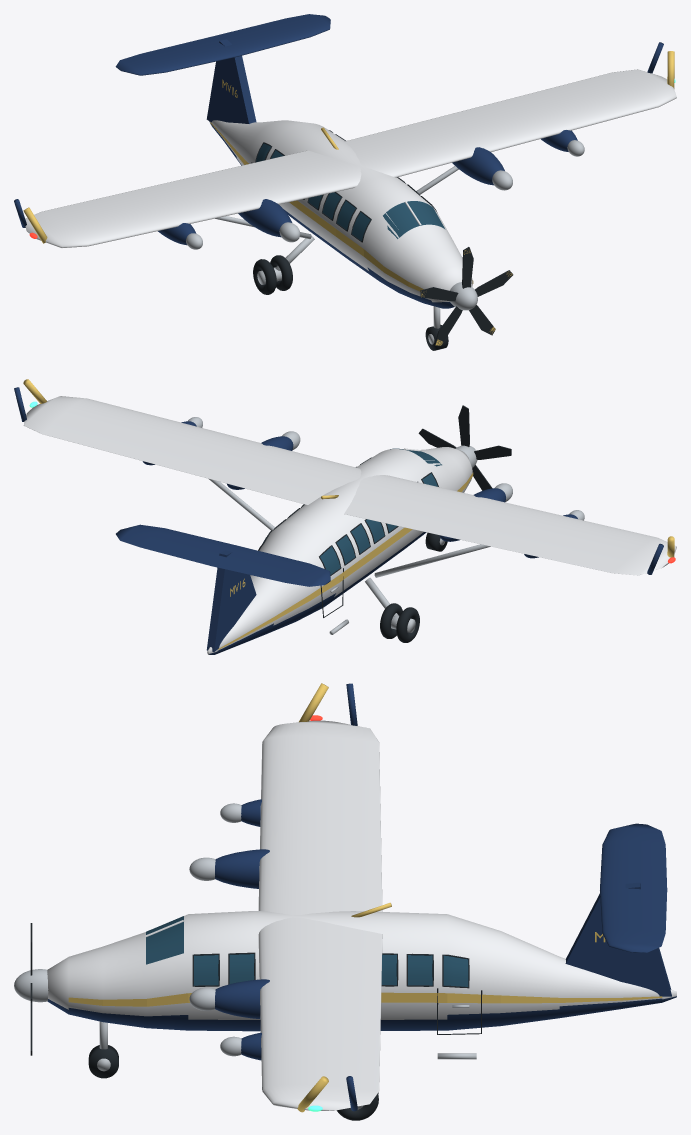
File: skywhale_mv16.glb
3 views of the same model, one above another, from view 1: azimuth 30°, elevation 25°; view 2: azimuth 150°, elevation 25°; view 3: azimuth 270°, elevation 25° (orthographic). The views are drawn at different scales.
Parts seen in each view (by area): view 1: Skywhale regional wing, Wide-body regional fuselage, High T-tail stabilizer, Tall airliner vertical fin, Airliner wrap-around windscreen, Imperial gold cheatline, Inboard engine pod, Inboard engine pod.001, Skywhale bogie tyre.001, Titanium nose spinner; view 2: Skywhale regional wing, Wide-body regional fuselage, High T-tail stabilizer, Tall airliner vertical fin, Imperial gold cheatline, Reinforced wing strut, Skywhale bogie tyre.001, Skywhale bogie tyre, Reinforced wing strut.001; view 3: Skywhale regional wing, Wide-body regional fuselage, High T-tail stabilizer, Tall airliner vertical fin, Imperial gold cheatline.001, Inboard engine pod.001, Inboard engine pod, Airliner wrap-around windscreen, Titanium nose spinner, Airliner oval window.008, Airliner oval window.014, Airliner oval window.015 (+2 smaller).
Part boxes in pixels (left/top/right/bottom): Skywhale regional wing: left=25, top=69, right=676, bottom=247; Wide-body regional fuselage: left=209, top=120, right=472, bottom=308; High T-tail stabilizer: left=115, top=14, right=330, bottom=75; Tall airliner vertical fin: left=206, top=39, right=256, bottom=123; Airliner wrap-around windscreen: left=383, top=201, right=445, bottom=238; Imperial gold cheatline: left=210, top=122, right=423, bottom=291; Inboard engine pod: left=238, top=199, right=292, bottom=237; Inboard engine pod.001: left=452, top=147, right=504, bottom=185; Skywhale bogie tyre.001: left=253, top=259, right=276, bottom=294; Titanium nose spinner: left=450, top=282, right=477, bottom=310; Skywhale regional wing: left=23, top=396, right=676, bottom=575; Wide-body regional fuselage: left=207, top=447, right=472, bottom=654; High T-tail stabilizer: left=116, top=524, right=330, bottom=586; Tall airliner vertical fin: left=206, top=550, right=256, bottom=651; Imperial gold cheatline: left=218, top=472, right=473, bottom=649; Reinforced wing strut: left=374, top=544, right=490, bottom=577; Skywhale bogie tyre.001: left=396, top=607, right=419, bottom=642; Skywhale bogie tyre: left=380, top=603, right=402, bottom=638; Reinforced wing strut.001: left=208, top=478, right=274, bottom=530; Skywhale regional wing: left=258, top=720, right=382, bottom=1110; Wide-body regional fuselage: left=47, top=911, right=676, bottom=1031; High T-tail stabilizer: left=600, top=823, right=667, bottom=952; Tall airliner vertical fin: left=565, top=882, right=671, bottom=996; Imperial gold cheatline.001: left=68, top=992, right=662, bottom=1006; Inboard engine pod.001: left=215, top=979, right=269, bottom=1018; Inboard engine pod: left=215, top=849, right=269, bottom=888; Airliner wrap-around windscreen: left=146, top=916, right=183, bottom=964; Titanium nose spinner: left=14, top=969, right=48, bottom=1002; Airliner oval window.008: left=193, top=955, right=218, bottom=985; Airliner oval window.014: left=407, top=955, right=432, bottom=985; Airliner oval window.015: left=443, top=955, right=468, bottom=986.
Bounding box in the file's own units: 19.27 × 4.43 × 13.57.
